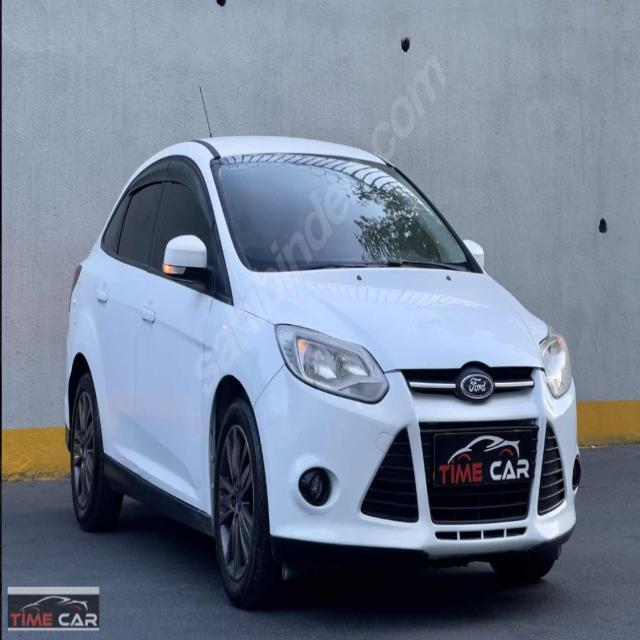ford: (458, 363, 494, 405)
